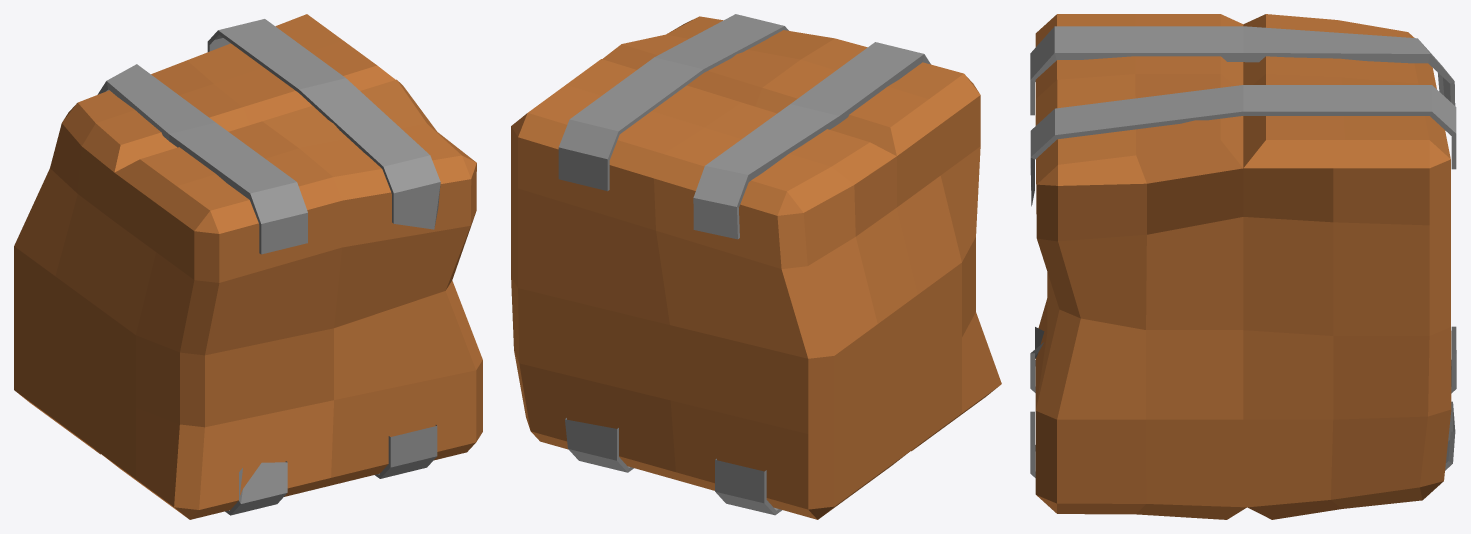
Rendered from sm_cardbox.fbx.
The picture shows the model from 3 angles, left to right: view 1: azimuth 30°, elevation 25°; view 2: azimuth 150°, elevation 25°; view 3: azimuth 270°, elevation 25°; orthographic projection. The views are drawn at different scales.
Visible parts, largest first — view 1: Object002; view 2: Object002; view 3: Object002.
Boxes of the visible parts, x1,y1,x2,y2 form: Object002: (14, 14, 482, 519); Object002: (511, 14, 1001, 519); Object002: (1030, 14, 1456, 519).
Bounding box in the file's own units: 79.15 × 82.06 × 80.84.
